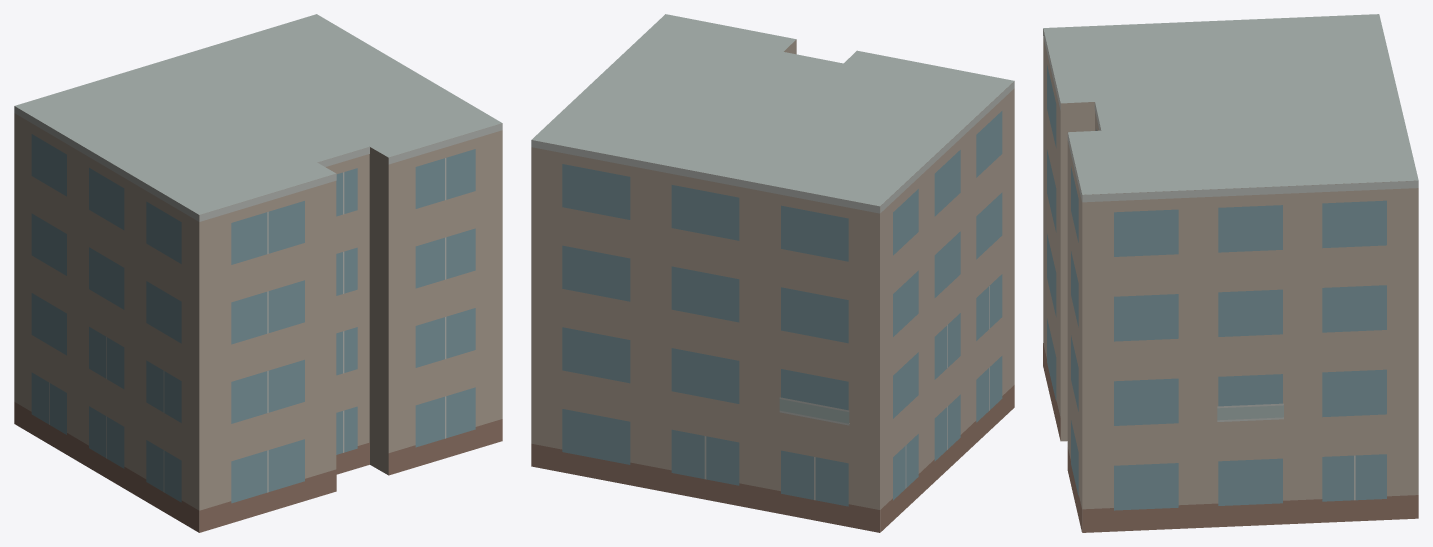
The model's file is survey-upis-32653399.glb.
3 views of the same model, side by side, from view 1: azimuth 30°, elevation 25°; view 2: azimuth 150°, elevation 25°; view 3: azimuth 270°, elevation 25° (orthographic). The views are drawn at different scales.
Visible parts, largest first — view 1: survey-upis-32653399.tmp; view 2: survey-upis-32653399.tmp; view 3: survey-upis-32653399.tmp.
Part boxes in pixels (x1,y1,x2,y2): survey-upis-32653399.tmp: [14, 14, 502, 532]; survey-upis-32653399.tmp: [531, 14, 1014, 532]; survey-upis-32653399.tmp: [1043, 14, 1418, 532].
Bounding box in the file's own units: 12.63 × 11 × 11.09.
